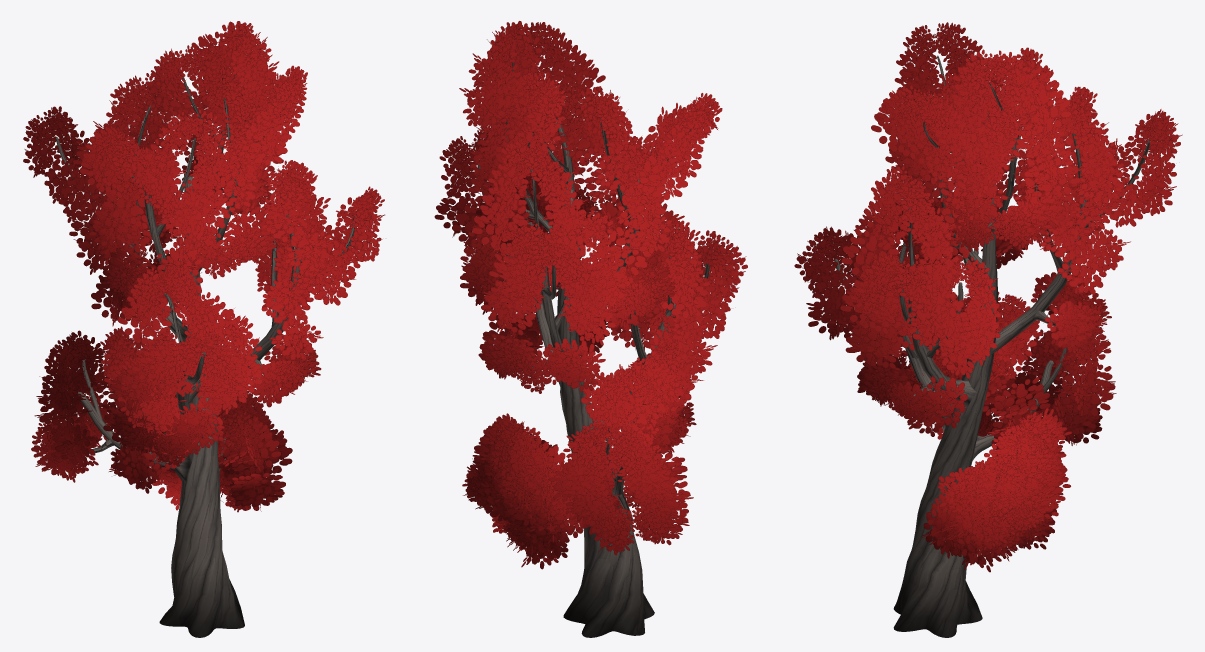
Rendered from TwistedTree_4.gltf.
The picture shows the model from 3 angles, left to right: view 1: azimuth 30°, elevation 25°; view 2: azimuth 150°, elevation 25°; view 3: azimuth 270°, elevation 25°; orthographic projection. The views are drawn at different scales.
Parts seen in each view (by area): view 1: TwistedTree_4; view 2: TwistedTree_4; view 3: TwistedTree_4.
Part boxes in pixels (left/top/right/bottom): TwistedTree_4: left=23, top=21, right=384, bottom=637; TwistedTree_4: left=434, top=21, right=747, bottom=637; TwistedTree_4: left=794, top=22, right=1182, bottom=637.
Bounding box in the file's own units: 10.38 × 18.74 × 11.29.
2 materials, 2 textured.
